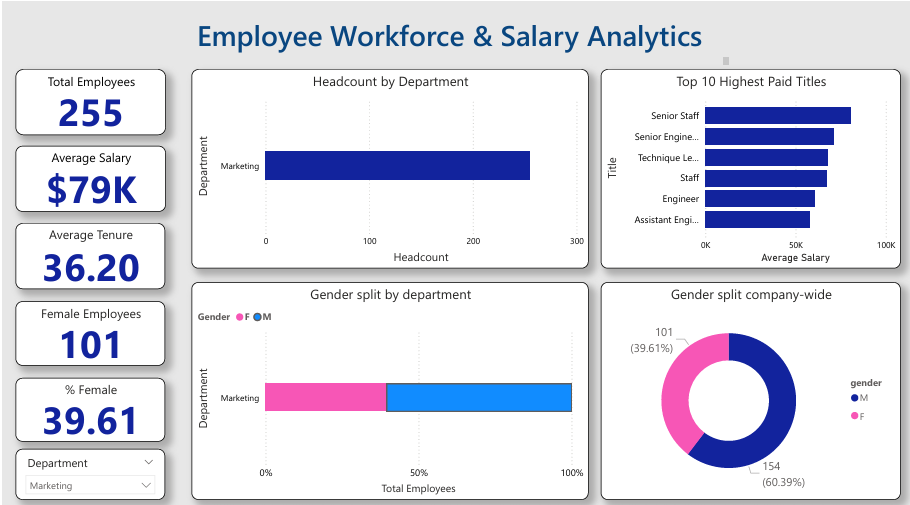

The page's visual inventory and layout, read from the dashboard file:
{"tool":"powerbi","page":{"name":"Workforce Analysis","canvas":[1280,720],"ordinal":0},"visuals":[{"type":"card","title":"Total Employees","fields":{"Values":["public current_employee_data.Total Employees"]},"box":[18.6,95.7,212.9,92.9],"z":0},{"type":"card","title":"Average Salary","fields":{"Values":["Measures (2).Average Salary"]},"box":[18.6,204.3,212.9,92.9],"z":1000},{"type":"clusteredBarChart","title":"Headcount by Department","fields":{"Category":["public current_employee_data.dept_name"],"Y":["Measures (2).Total Employees"]},"box":[267.1,95.7,560,281.4],"z":2000},{"type":"donutChart","title":" Gender split company-wide","fields":{"Category":["public current_employee_data.gender"],"Y":["Measures (2).Total Employees"]},"box":[844.3,395.7,422.9,307.1],"z":3000},{"type":"card","title":"Average Tenure","fields":{"Values":["Measures (2).Average Tenure"]},"box":[18.6,312.9,211.4,92.9],"z":4000},{"type":"textbox","title":"Employee Workforce & Salary Analytics","box":[231.8,21.2,798.3,74.2],"z":5000},{"type":"card","title":" Female Employees","fields":{"Values":["Measures (2).Female Employees"]},"box":[18.6,422.9,211.4,91.4],"z":6000},{"type":"card","title":"% Female","fields":{"Values":["Measures (2).% Female"]},"box":[18.6,531.4,211.4,90],"z":7000},{"type":"hundredPercentStackedBarChart","title":"Gender split by department ","fields":{"Y":["Measures (2).Total Employees"],"Category":["public current_employee_data.dept_name"],"Series":["public current_employee_data.gender"]},"box":[267.1,395.7,560,307.1],"z":8000},{"type":"slicer","fields":{"Values":["public current_employee_data.dept_name"]},"box":[18.6,631.4,211.4,71.4],"z":9000},{"type":"clusteredBarChart","title":"Top 10 Highest Paid Titles","fields":{"Category":["public top_paid_titles.title"],"Y":["Sum(public top_paid_titles.avg_salary)"]},"box":[844.3,95.7,422.9,281.4],"z":10000}]}

Visuals, with their boxes in screenshot pixels (x1, y1, x2, y2), scaled from the page's 1280x720 canvas onto the 910x505 screenshot:
"Total Employees" card: detection(13, 67, 165, 132)
"Average Salary" card: detection(13, 143, 165, 208)
"Headcount by Department" clusteredBarChart: detection(190, 67, 588, 264)
" Gender split company-wide" donutChart: detection(600, 278, 901, 493)
"Average Tenure" card: detection(13, 219, 164, 285)
"Employee Workforce & Salary Analytics" textbox: detection(165, 15, 732, 67)
" Female Employees" card: detection(13, 297, 164, 361)
"% Female" card: detection(13, 373, 164, 436)
"Gender split by department " hundredPercentStackedBarChart: detection(190, 278, 588, 493)
slicer - public current_employee_data.dept_name: detection(13, 443, 164, 493)
"Top 10 Highest Paid Titles" clusteredBarChart: detection(600, 67, 901, 264)
